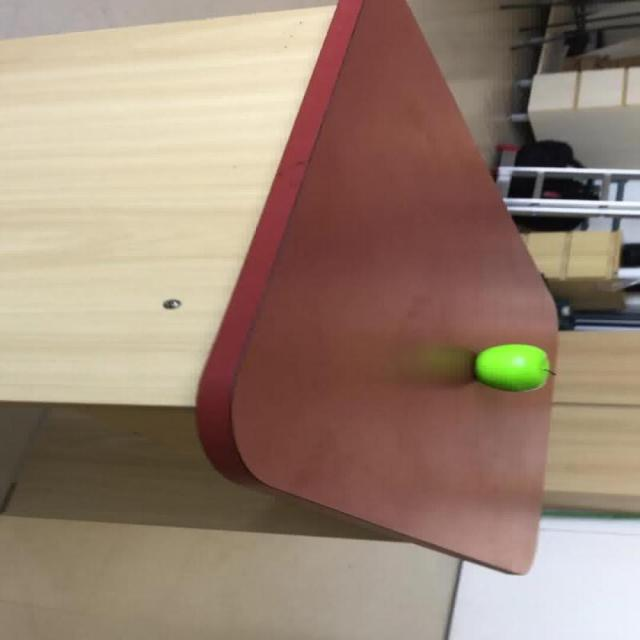Apple: (472, 343, 554, 392)
